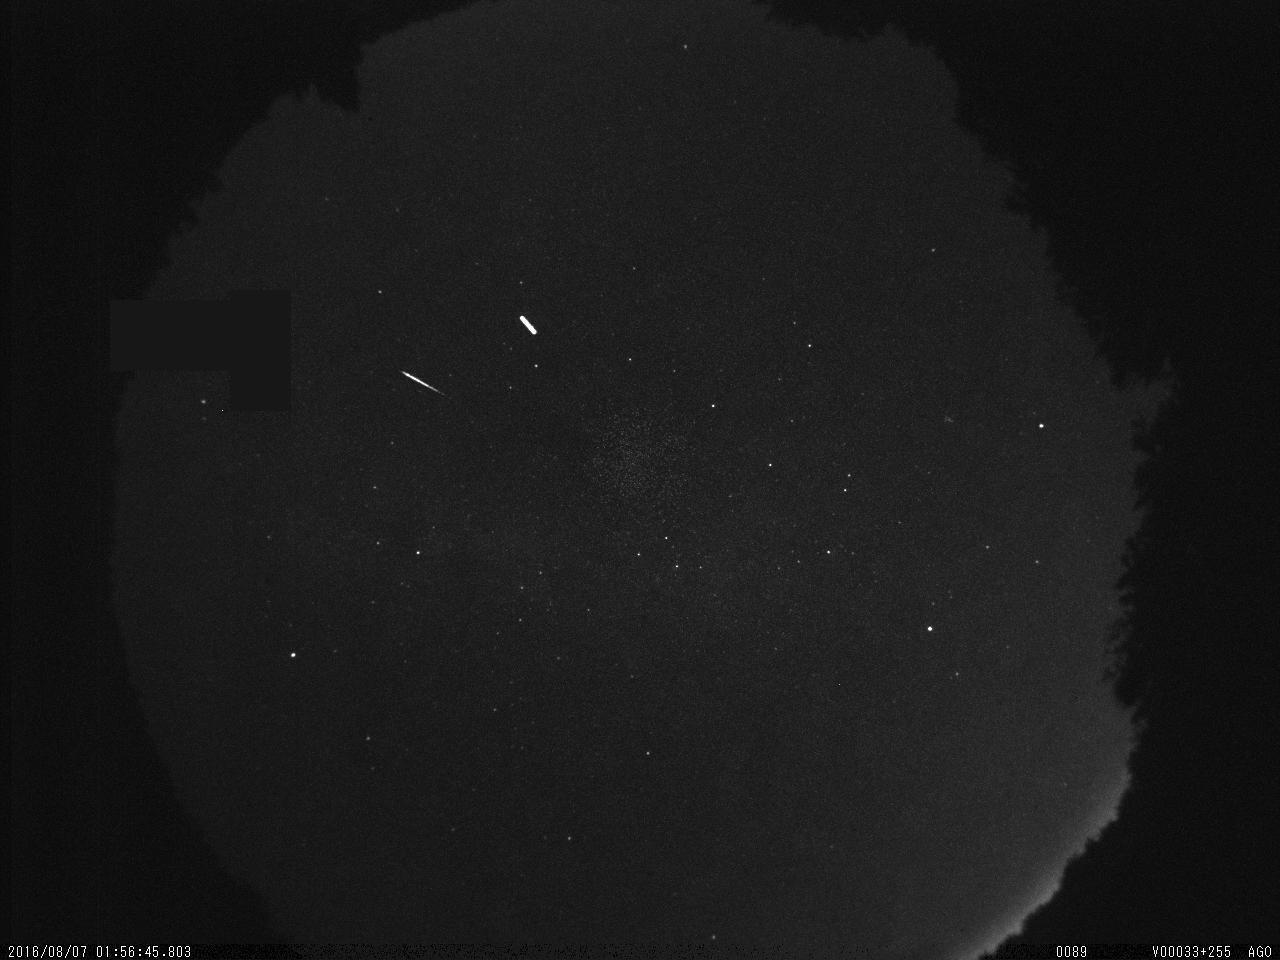meteor: (399, 365, 453, 402)
satelite: (511, 304, 545, 341)
